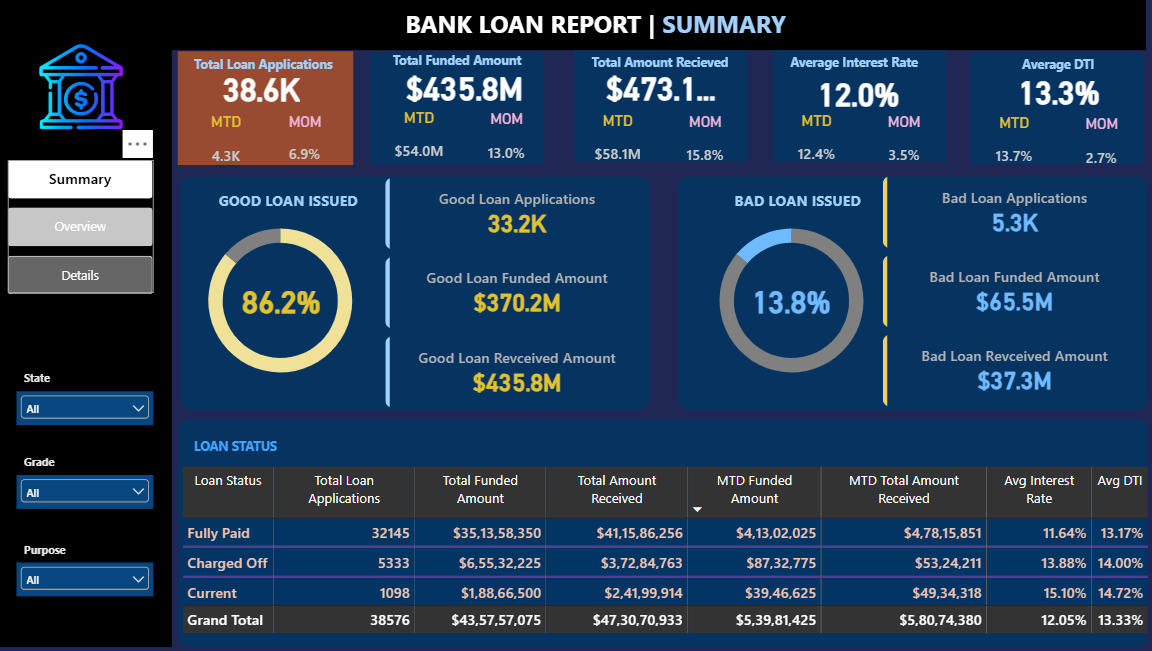

This screenshot's page, from the dashboard's own definition file:
{"tool":"powerbi","page":{"name":"Summary","canvas":[1920,1080],"ordinal":0},"visuals":[{"type":"shape","box":[0,0,1274.6,55.7],"z":0},{"type":"shape","box":[639.3,56,192.8,124],"z":0,"group":"g3"},{"type":"shape","box":[859.7,56,192.8,124],"z":0,"group":"g4"},{"type":"shape","box":[198.5,56.9,195,126.4],"z":0,"group":"g1"},{"type":"shape","box":[413,58,192.8,124],"z":0,"group":"g2"},{"type":"shape","box":[1080.3,58.1,193.1,124],"z":0,"group":"g5"},{"type":"cardVisual","fields":{"Data":["bank_loan_data.Total Funded Amount"]},"box":[437.2,76.9,162.4,40.7],"z":1000,"group":"g2"},{"type":"cardVisual","fields":{"Data":["bank_loan_data.Avg DTI"]},"box":[1098.9,78,158,50.5],"z":1000,"group":"g5"},{"type":"cardVisual","fields":{"Data":["bank_loan_data.Total Amount Received"]},"box":[658.9,78.3,158.2,40.3],"z":1000,"group":"g3"},{"type":"cardVisual","fields":{"Data":["bank_loan_data.Total Loan Applications"]},"box":[230.9,78.8,122.6,41.2],"z":1000,"group":"g1"},{"type":"cardVisual","fields":{"Data":["bank_loan_data.Avg Interest Rate"]},"box":[876.3,84.9,157.7,40.3],"z":1000,"group":"g4"},{"type":"shape","box":[201.5,195.4,522,260],"z":1000},{"type":"shape","box":[0,54.7,192,665],"z":2000},{"type":"textbox","box":[437.3,56.6,174.8,32],"z":2000,"group":"g2"},{"type":"textbox","box":[657.7,60.2,174.8,32],"z":2000,"group":"g3"},{"type":"textbox","box":[878.1,60.2,174.8,32],"z":2000,"group":"g4"},{"type":"textbox","box":[1115.8,60.4,123.1,24.4],"z":2000,"group":"g5"},{"type":"textbox","box":[217.1,61.2,176.7,32.7],"z":2000,"group":"g1"},{"type":"cardVisual","title":"MTD","fields":{"Data":["bank_loan_data.MTD Funded Amount"]},"box":[417.1,120.6,100.1,56.8],"z":3000,"group":"g2"},{"type":"cardVisual","title":"MTD","fields":{"Data":["bank_loan_data.MTD Total Amount Received"]},"box":[637.5,124.2,100.1,56.8],"z":3000,"group":"g3"},{"type":"cardVisual","title":"MTD","fields":{"Data":["bank_loan_data.MTD Avg Int Rate"]},"box":[857.9,124.2,100.1,56.8],"z":3000,"group":"g4"},{"type":"cardVisual","title":"MTD","fields":{"Data":["bank_loan_data.MTD Loan Applications"]},"box":[216.6,125.3,71.1,58.8],"z":3000,"group":"g1"},{"type":"cardVisual","title":"MTD","fields":{"Data":["bank_loan_data.MTD Avg DTI"]},"box":[1078.4,126.3,100.2,56.8],"z":3000,"group":"g5"},{"type":"cardVisual","fields":{"Data":["bank_loan_data.Good Loan %"]},"box":[243.1,310.8,141.1,48.9],"z":3000},{"type":"textbox","box":[416.7,7.8,492.2,46.7],"z":4000},{"type":"cardVisual","title":"MOM","fields":{"Data":["bank_loan_data.MoM Total Funded Amount"]},"box":[526.4,122.4,75.3,58.1],"z":4000,"group":"g2"},{"type":"cardVisual","title":"MOM","fields":{"Data":["bank_loan_data.MoM Loan Application"]},"box":[305.5,125.3,68.9,55.2],"z":4000,"group":"g1"},{"type":"cardVisual","title":"MOM","fields":{"Data":["bank_loan_data.MoM Total Amount Recieved"]},"box":[746.9,125.9,75.3,58.1],"z":4000,"group":"g3"},{"type":"cardVisual","title":"MOM","fields":{"Data":["bank_loan_data.MoM Avg Int Rate"]},"box":[967.3,125.9,75.3,58.1],"z":4000,"group":"g4"},{"type":"cardVisual","title":"MOM","fields":{"Data":["bank_loan_data.MoM Avg DTI"]},"box":[1187.9,128,75.5,58.1],"z":4000,"group":"g5"},{"type":"donutChart","fields":{"Category":["bank_loan_data.Good v Bad Loan"],"Y":["bank_loan_data.Total Loan Applications"]},"box":[187.7,220,250,230],"z":5000},{"type":"group","id":"g1","title":"Group 1","box":[198.5,56.9,195.4,128],"z":6000},{"type":"group","id":"g2","title":"Group 1","box":[413,56.6,199.1,125.5],"z":7000},{"type":"group","id":"g3","title":"Group 1","box":[637.5,56,195,128],"z":8000},{"type":"group","id":"g4","title":"Group 1","box":[857.9,56,195,128],"z":9000},{"type":"group","id":"g5","title":"Group 1","box":[1078.4,58.1,195,128],"z":10000},{"type":"shape","box":[753.8,195.4,522,260],"z":11000},{"type":"textbox","box":[221.5,210.8,198.5,40],"z":12000},{"type":"cardVisual","fields":{"Data":["bank_loan_data.Good Loan Applications","bank_loan_data.Good Loan Funded Amount","bank_loan_data.Good Loan Revceived Amount"]},"box":[429.2,196.9,293.8,258.5],"z":13000},{"type":"donutChart","fields":{"Category":["bank_loan_data.Good v Bad Loan"],"Y":["bank_loan_data.Total Loan Applications"]},"box":[755.4,220,250,230],"z":14000},{"type":"textbox","box":[786.2,210.8,203.1,40],"z":15000},{"type":"cardVisual","fields":{"Data":["bank_loan_data.Bad Loan %"]},"box":[809.2,310.8,141.1,48.9],"z":16000},{"type":"shape","box":[198.8,465.4,1077.8,254.3],"z":17000},{"type":"cardVisual","fields":{"Data":["bank_loan_data.Bad Loan Applications","bank_loan_data.Bad Loan Funded Amount","bank_loan_data.Bad Loan Revceived Amount"]},"box":[981.5,195.4,293.8,258.5],"z":18000},{"type":"tableEx","fields":{"Values":["bank_loan_data.loan_status","bank_loan_data.Total Loan Applications","bank_loan_data.Total Funded Amount","bank_loan_data.Total Amount Received","bank_loan_data.MTD Funded Amount","bank_loan_data.MTD Total Amount Received","bank_loan_data.Avg Interest Rate","bank_loan_data.Avg DTI"]},"box":[187.7,503.7,1106.2,216],"z":19000},{"type":"textbox","box":[216,486.4,97.5,27.2],"z":20000},{"type":"slicer","fields":{"Values":["bank_loan_data.address_state"]},"box":[20,434.9,152.2,37.8],"z":21000},{"type":"textbox","box":[27.8,410,47.8,24.4],"z":22000},{"type":"slicer","fields":{"Values":["bank_loan_data.grade"]},"box":[20,528,152.2,37.8],"z":23000},{"type":"textbox","box":[27.8,503.3,47.8,24.4],"z":24000},{"type":"slicer","fields":{"Values":["bank_loan_data.purpose"]},"box":[20,624.4,152.2,37.8],"z":25000},{"type":"textbox","box":[27.8,600,47.8,24.4],"z":26000},{"type":"image","box":[18.3,46.5,146.5,107],"z":27000},{"type":"pageNavigator","box":[9.9,177.5,162,149.3],"z":28000}]}

Visuals, with their boxes in screenshot pixels (x1, y1, x2, y2), scaled from the page's 1920x1080 canvas onto the 1152x651 screenshot:
shape: l=0, t=0, r=765, b=34
shape: l=384, t=34, r=499, b=108
shape: l=516, t=34, r=632, b=108
shape: l=119, t=34, r=236, b=110
shape: l=248, t=35, r=363, b=110
shape: l=648, t=35, r=764, b=110
cardVisual - bank_loan_data.Total Funded Amount: l=262, t=46, r=360, b=71
cardVisual - bank_loan_data.Avg DTI: l=659, t=47, r=754, b=77
cardVisual - bank_loan_data.Total Amount Received: l=395, t=47, r=490, b=71
cardVisual - bank_loan_data.Total Loan Applications: l=139, t=47, r=212, b=72
cardVisual - bank_loan_data.Avg Interest Rate: l=526, t=51, r=620, b=75
shape: l=121, t=118, r=434, b=275
shape: l=0, t=33, r=115, b=434
textbox: l=262, t=34, r=367, b=53
textbox: l=395, t=36, r=500, b=56
textbox: l=527, t=36, r=632, b=56
textbox: l=669, t=36, r=743, b=51
textbox: l=130, t=37, r=236, b=57
"MTD" cardVisual: l=250, t=73, r=310, b=107
"MTD" cardVisual: l=382, t=75, r=443, b=109
"MTD" cardVisual: l=515, t=75, r=575, b=109
"MTD" cardVisual: l=130, t=76, r=173, b=111
"MTD" cardVisual: l=647, t=76, r=707, b=110
cardVisual - bank_loan_data.Good Loan %: l=146, t=187, r=231, b=217
textbox: l=250, t=5, r=545, b=33
"MOM" cardVisual: l=316, t=74, r=361, b=109
"MOM" cardVisual: l=183, t=76, r=225, b=109
"MOM" cardVisual: l=448, t=76, r=493, b=111
"MOM" cardVisual: l=580, t=76, r=626, b=111
"MOM" cardVisual: l=713, t=77, r=758, b=112
donutChart - bank_loan_data.Good v Bad Loan x bank_loan_data.Total Loan Applications: l=113, t=133, r=263, b=271
"Group 1" group: l=119, t=34, r=236, b=111
"Group 1" group: l=248, t=34, r=367, b=110
"Group 1" group: l=382, t=34, r=500, b=111
"Group 1" group: l=515, t=34, r=632, b=111
"Group 1" group: l=647, t=35, r=764, b=112
shape: l=452, t=118, r=765, b=275
textbox: l=133, t=127, r=252, b=151
cardVisual - bank_loan_data.Good Loan Applications x bank_loan_data.Good Loan Funded Amount: l=258, t=119, r=434, b=275
donutChart - bank_loan_data.Good v Bad Loan x bank_loan_data.Total Loan Applications: l=453, t=133, r=603, b=271
textbox: l=472, t=127, r=594, b=151
cardVisual - bank_loan_data.Bad Loan %: l=486, t=187, r=570, b=217
shape: l=119, t=281, r=766, b=434
cardVisual - bank_loan_data.Bad Loan Applications x bank_loan_data.Bad Loan Funded Amount: l=589, t=118, r=765, b=274
tableEx - bank_loan_data.loan_status x bank_loan_data.Total Loan Applications: l=113, t=304, r=776, b=434
textbox: l=130, t=293, r=188, b=310
slicer - bank_loan_data.address_state: l=12, t=262, r=103, b=285
textbox: l=17, t=247, r=45, b=262
slicer - bank_loan_data.grade: l=12, t=318, r=103, b=341
textbox: l=17, t=303, r=45, b=318
slicer - bank_loan_data.purpose: l=12, t=376, r=103, b=399
textbox: l=17, t=362, r=45, b=376
image: l=11, t=28, r=99, b=93
pageNavigator: l=6, t=107, r=103, b=197
